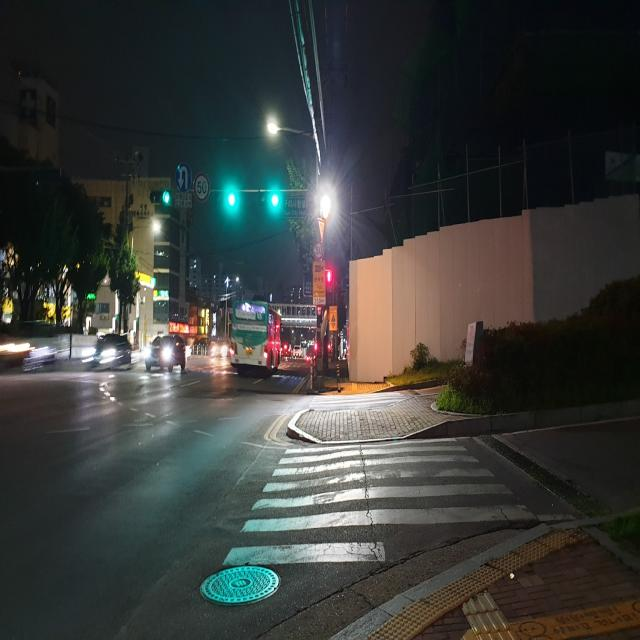횡단보도: (224, 436, 538, 572)
